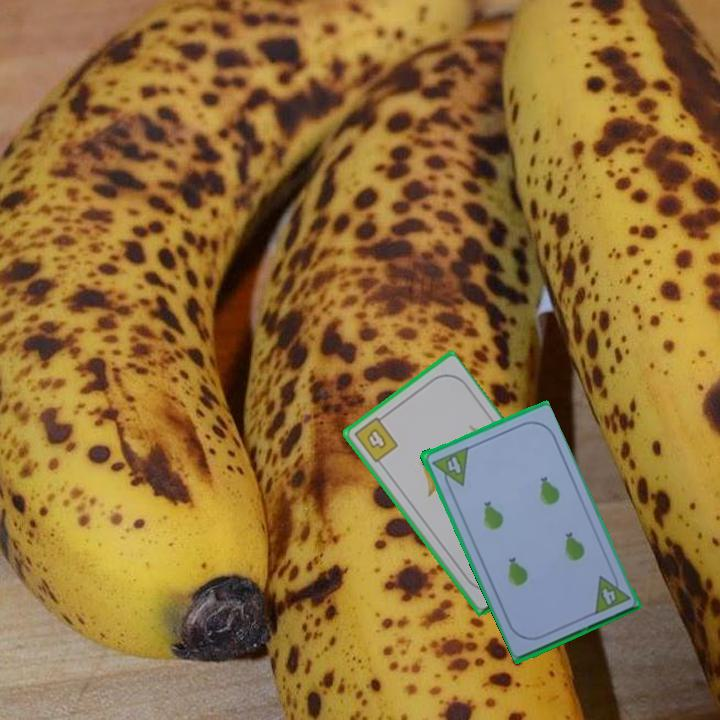4b: (350, 411, 401, 466)
4p: (428, 443, 471, 493), (590, 567, 633, 617)
